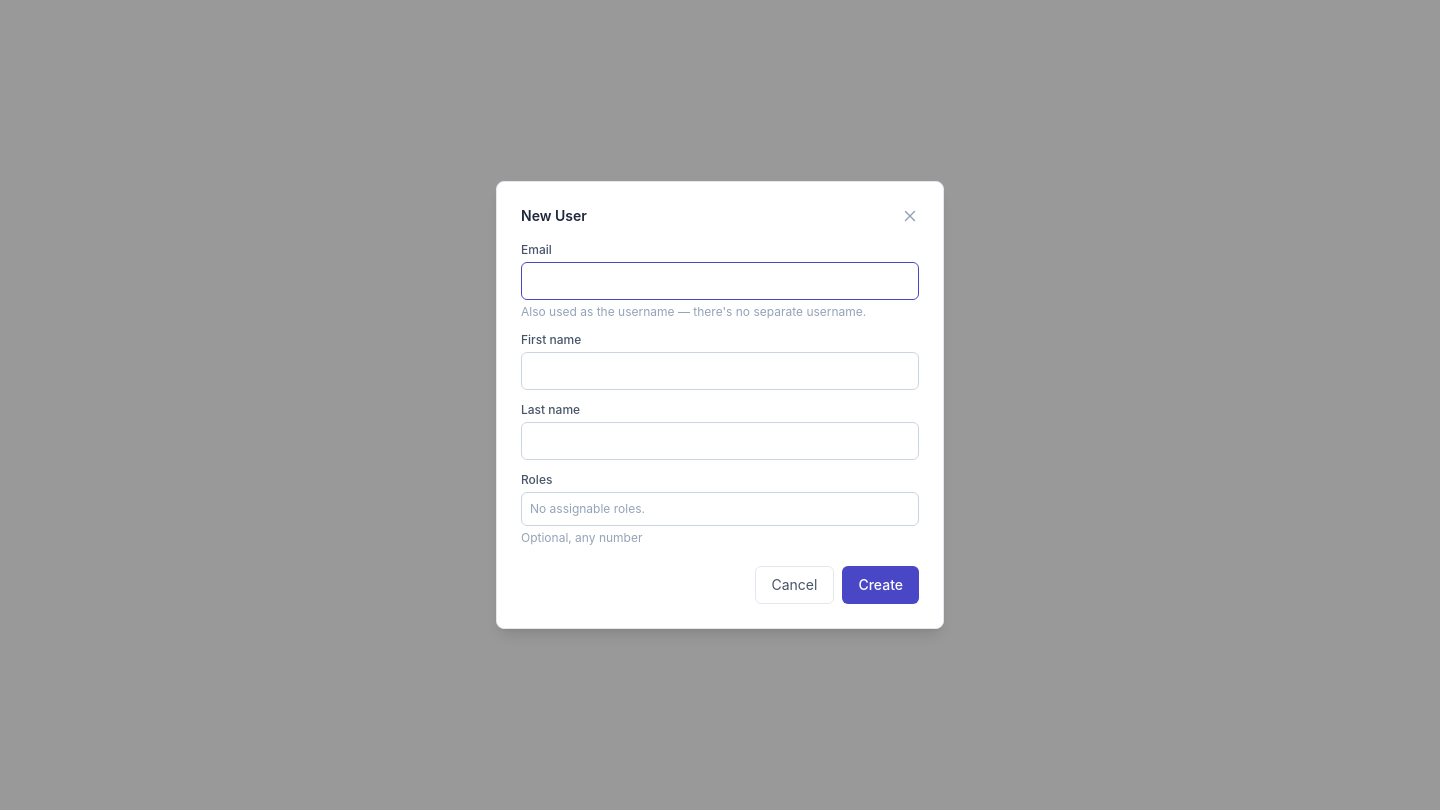
Test case: CreateUserModal › shows err.body.detail on failure, or a fallback when absent, and stays on the form
The image size is (1440, 810).
In the field below "Email": (720, 281) [521,262,919,300], type "jdoe@client-a.com"
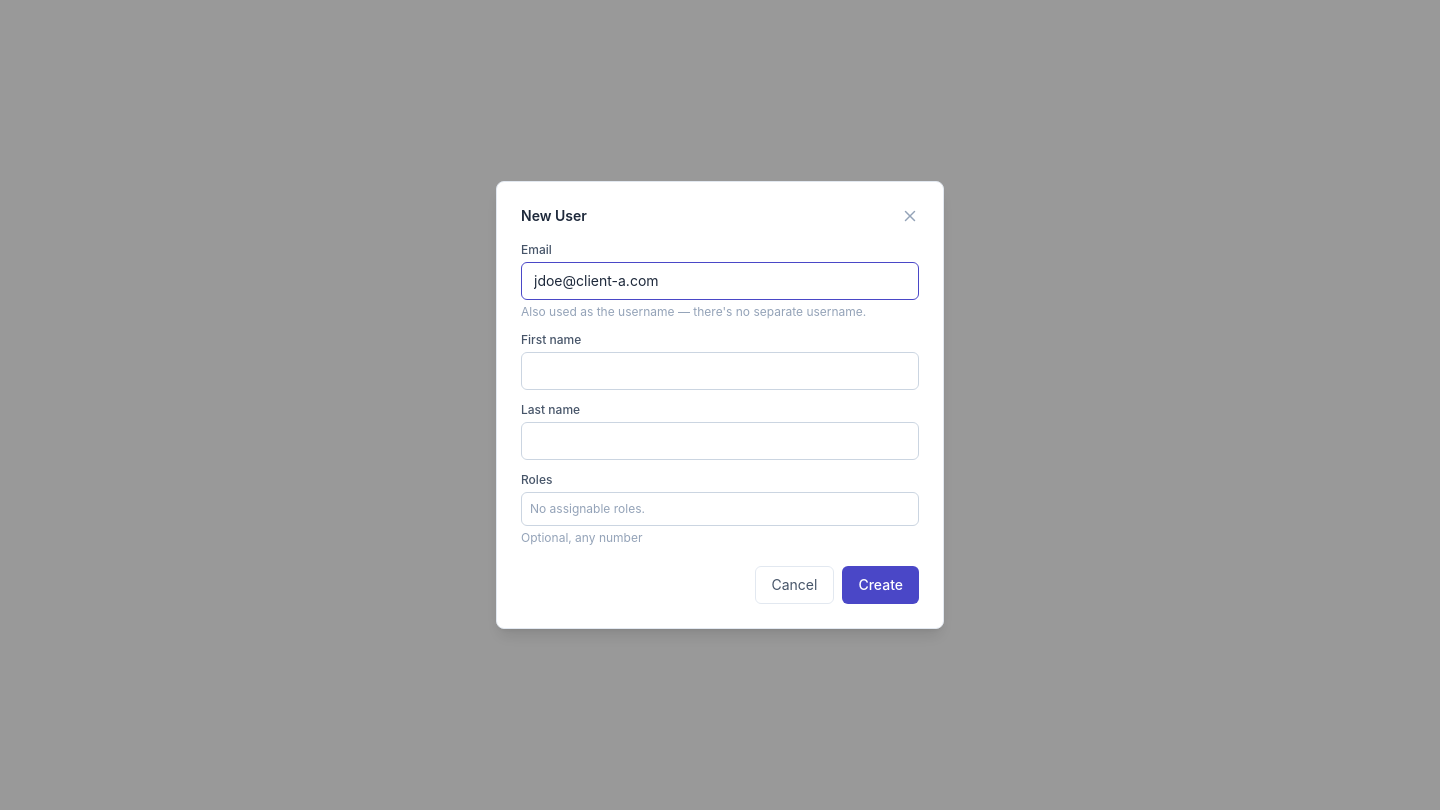
Click the button "Create": (881, 585) [842,566,919,604]
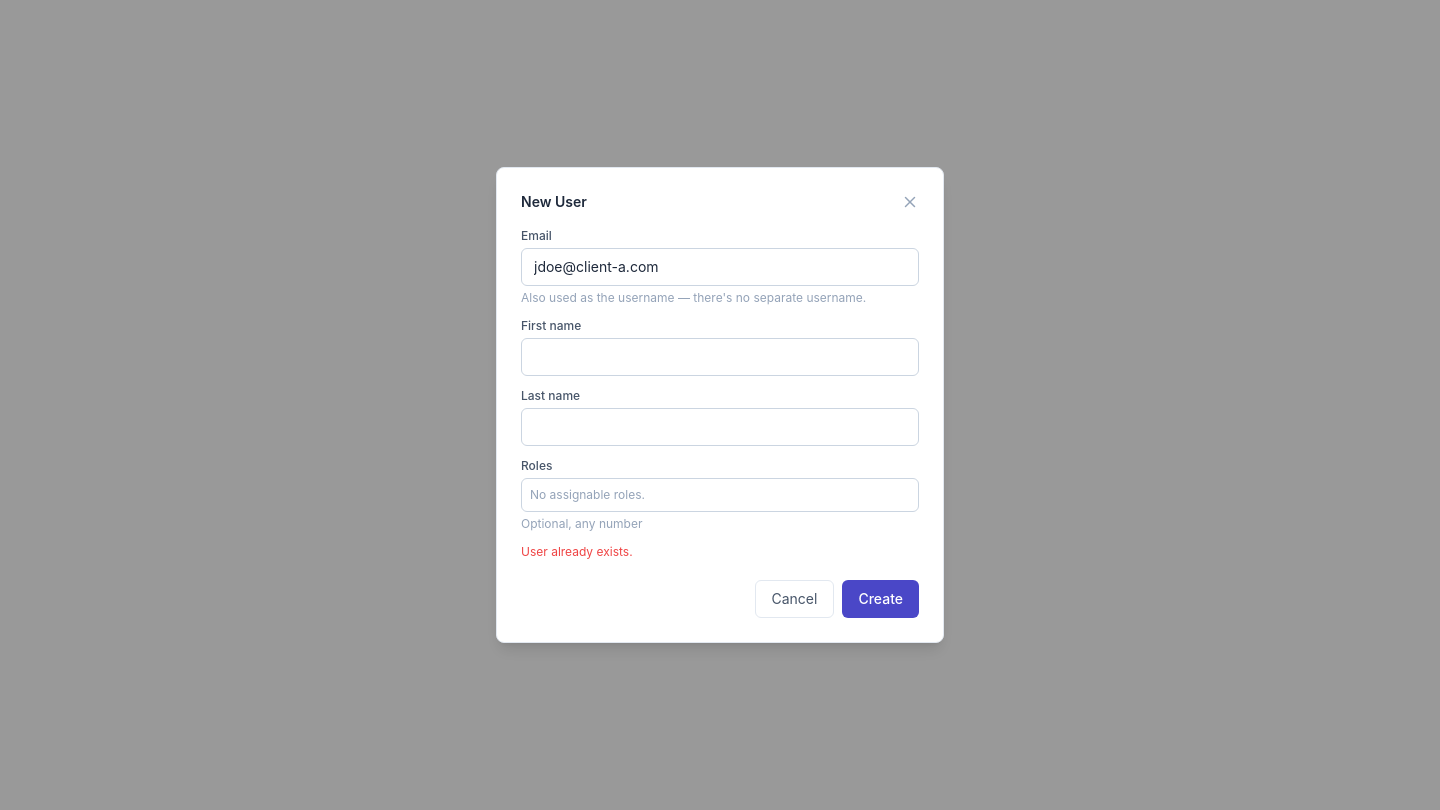
expect the text "User already exists." is shown: met, box [521,544,633,559]
